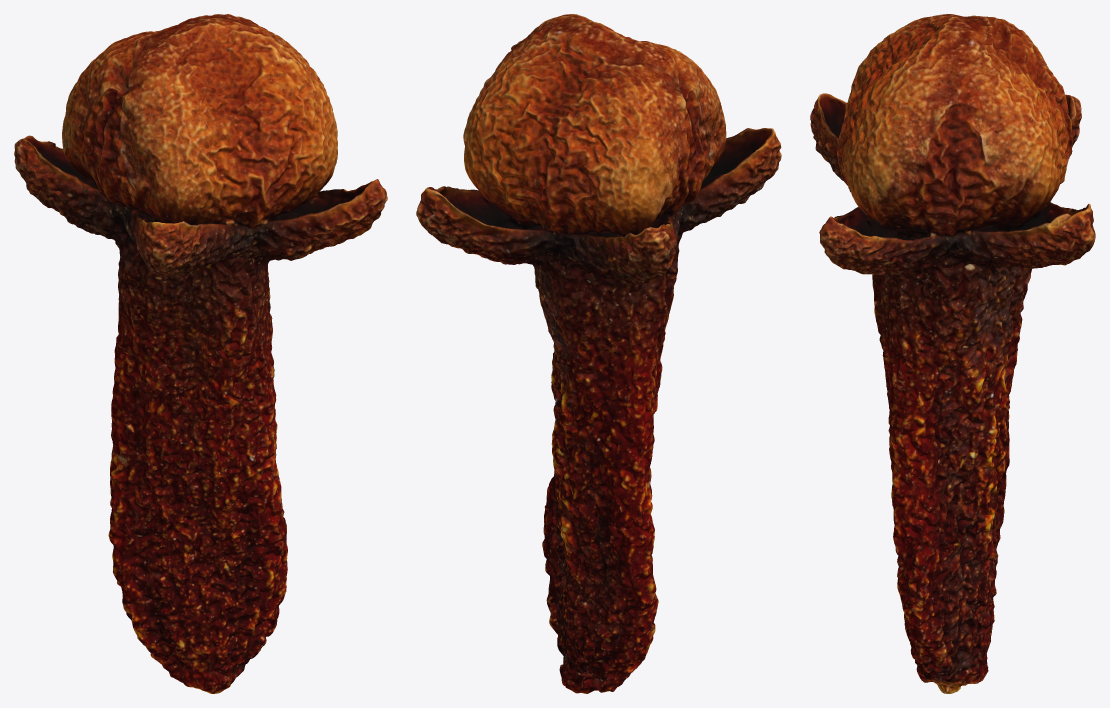
Rendered from Cloven.glb.
The picture shows the model from 3 angles, left to right: view 1: azimuth 30°, elevation 25°; view 2: azimuth 150°, elevation 25°; view 3: azimuth 270°, elevation 25°; orthographic projection.
Visible parts, largest first — view 1: Object_2; view 2: Object_2; view 3: Object_2.
Part boxes in pixels (x1,y1,x2,y2): Object_2: (14,14,387,693); Object_2: (416,14,781,693); Object_2: (810,14,1095,693).
Size of the model in its own units: 0.3641 by 0.9207 by 0.3603.
1 material, 1 textured.
